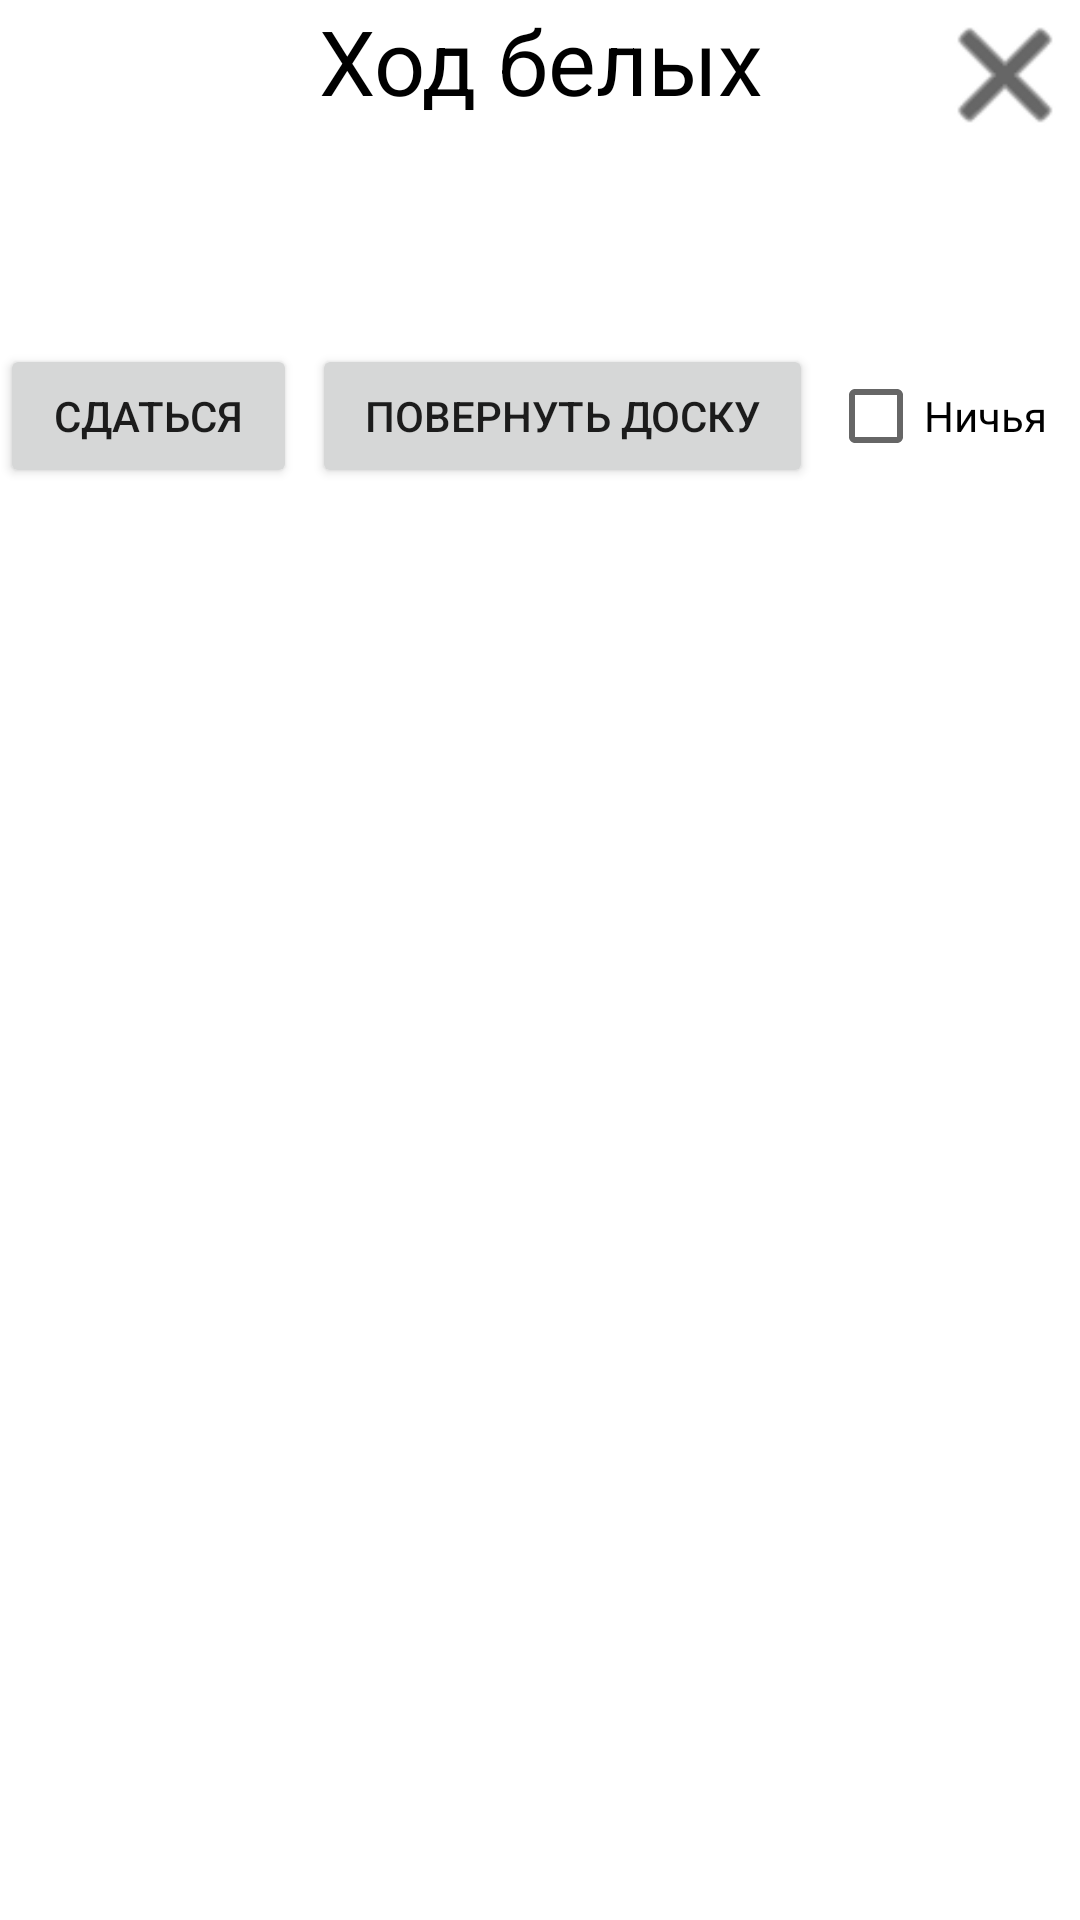

Screen size 1080x1920. Icon name, then its box in pixels as region(x1, y1, x2, y2):
close clear cancel: region(958, 28, 1052, 122)
